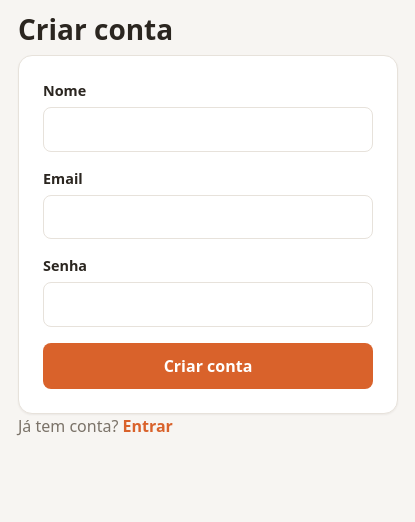
Scenario: RegisterPage › shows an error message when email is already registered
This screenshot has width=415, height=522.
Type "Ana" into the field labelled "Nome".
click(208, 129); type("Ana")  # box x1=43 y1=107 x2=373 y2=152
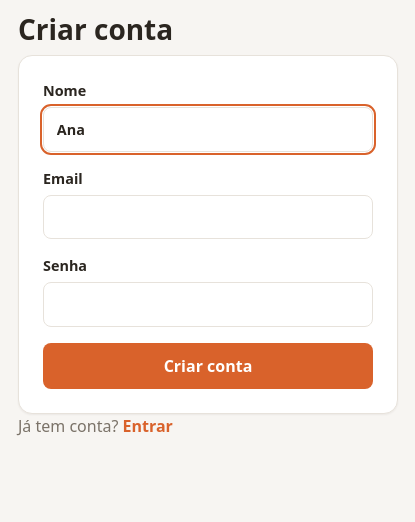
Type "ana@test.com" into the field labelled "Email".
click(208, 217); type("ana@test.com")  # box x1=43 y1=195 x2=373 y2=239
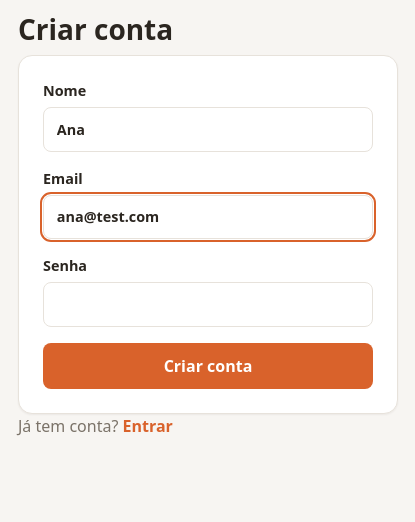
Type "password123" into the password field labelled "Senha".
click(208, 304); type("password123")  # box x1=43 y1=282 x2=373 y2=327
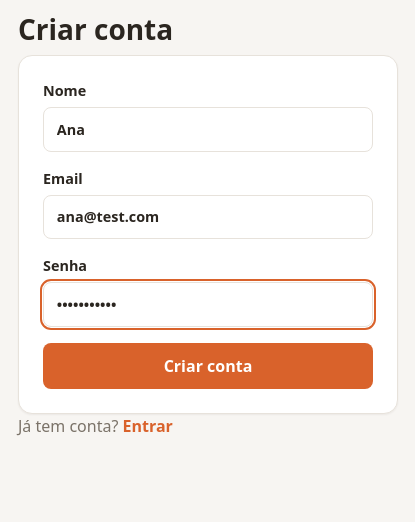
Click the button "Criar conta".
click(208, 366)  # box x1=43 y1=343 x2=373 y2=390
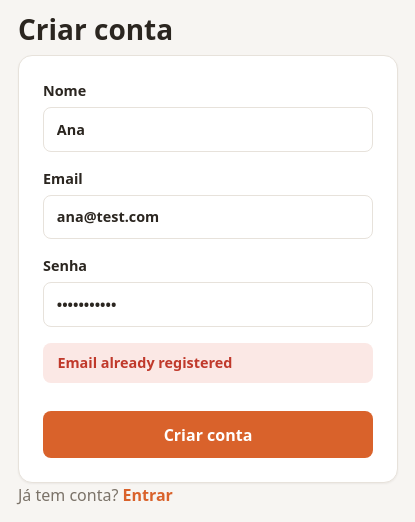
Check: the message "Email already registered" is shown, box x1=43 y1=343 x2=373 y2=384
